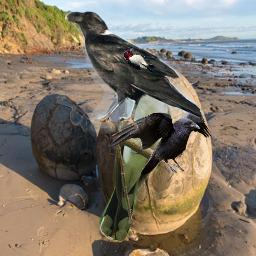Crow: (65, 9, 203, 134), (108, 107, 213, 175)
Cuckoo: (99, 75, 172, 241)
Woodpecker: (122, 46, 158, 73)
